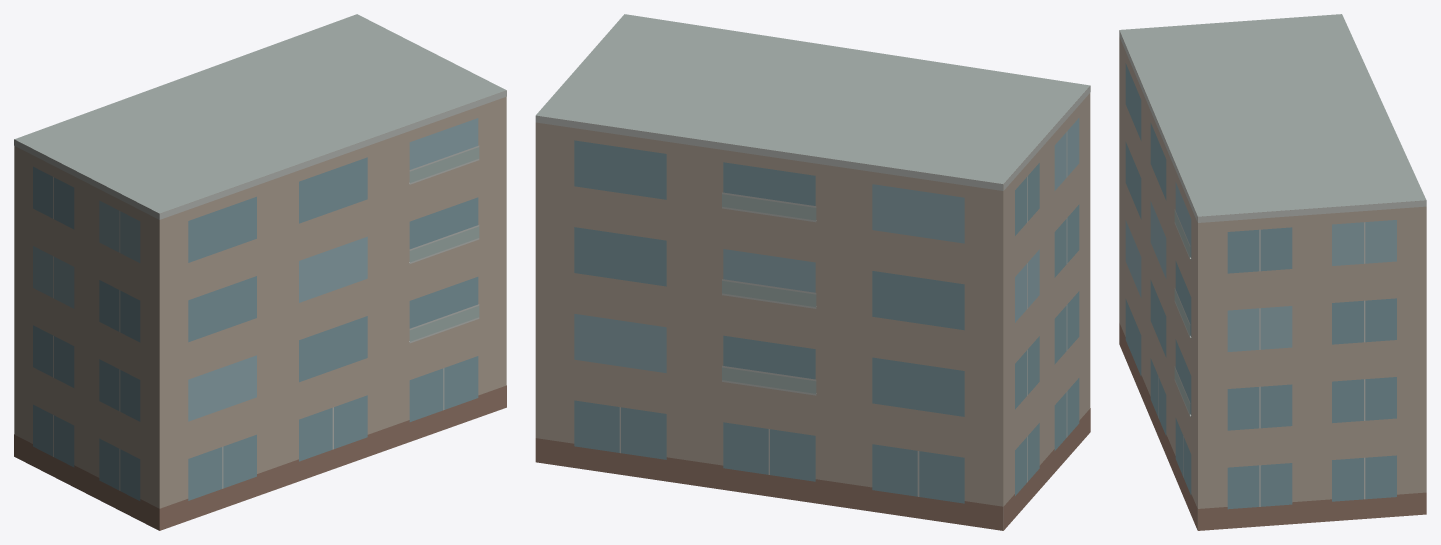
Rendered from survey-upis-32708444.glb.
The picture shows the model from 3 angles, left to right: view 1: azimuth 30°, elevation 25°; view 2: azimuth 150°, elevation 25°; view 3: azimuth 270°, elevation 25°; orthographic projection. The views are drawn at different scales.
Visible parts, largest first — view 1: survey-upis-32708444.tmp; view 2: survey-upis-32708444.tmp; view 3: survey-upis-32708444.tmp.
Part boxes in pixels (x1,y1,x2,y2): survey-upis-32708444.tmp: (14, 14, 506, 530); survey-upis-32708444.tmp: (535, 14, 1090, 530); survey-upis-32708444.tmp: (1119, 14, 1426, 530).
Bounding box in the file's own units: 16.9 × 12.2 × 10.82.
